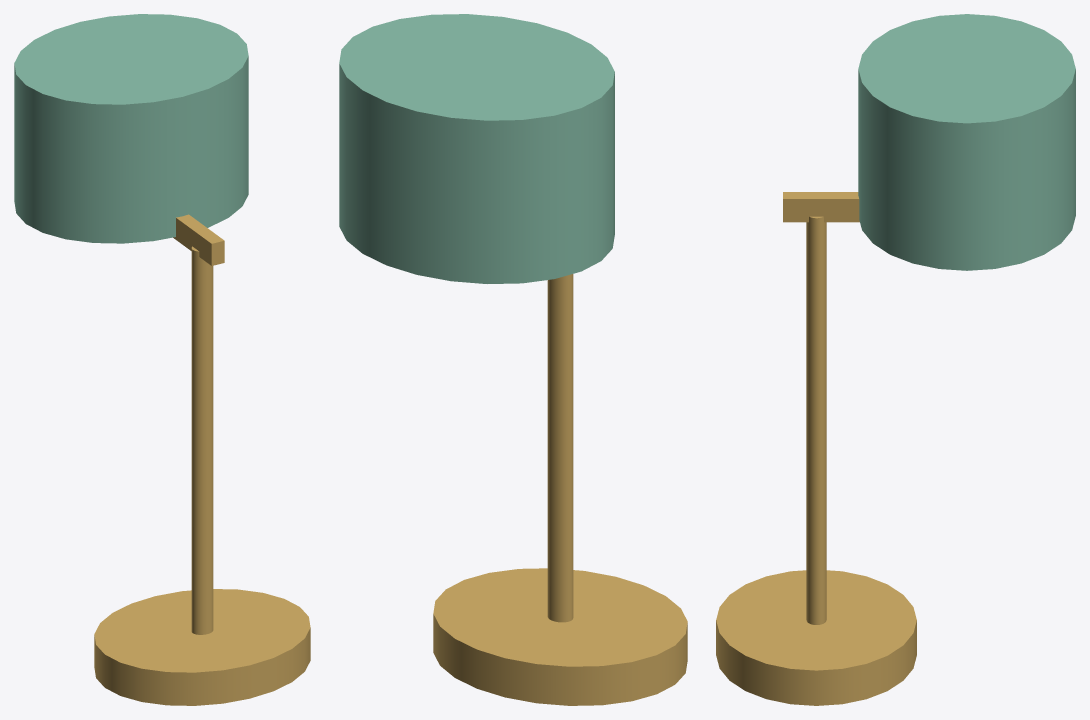
The model's file is desk-lamp.glb.
3 views of the same model, side by side, from view 1: azimuth 30°, elevation 25°; view 2: azimuth 150°, elevation 25°; view 3: azimuth 270°, elevation 25° (orthographic). The views are drawn at different scales.
Parts seen in each view (by area): view 1: desk-lamp; view 2: desk-lamp; view 3: desk-lamp.
Boxes of the visible parts, x1,y1,x2,y2 form: desk-lamp: (14,14,310,705); desk-lamp: (339,14,687,705); desk-lamp: (716,14,1075,705).
Bounding box in the file's own units: 18 × 45 × 25.
